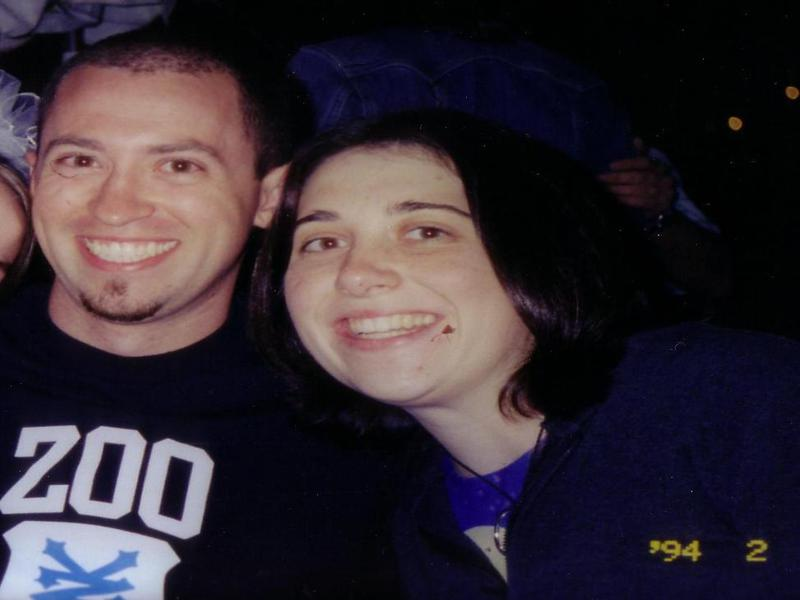person: (253, 92, 798, 600), (1, 34, 487, 600)
